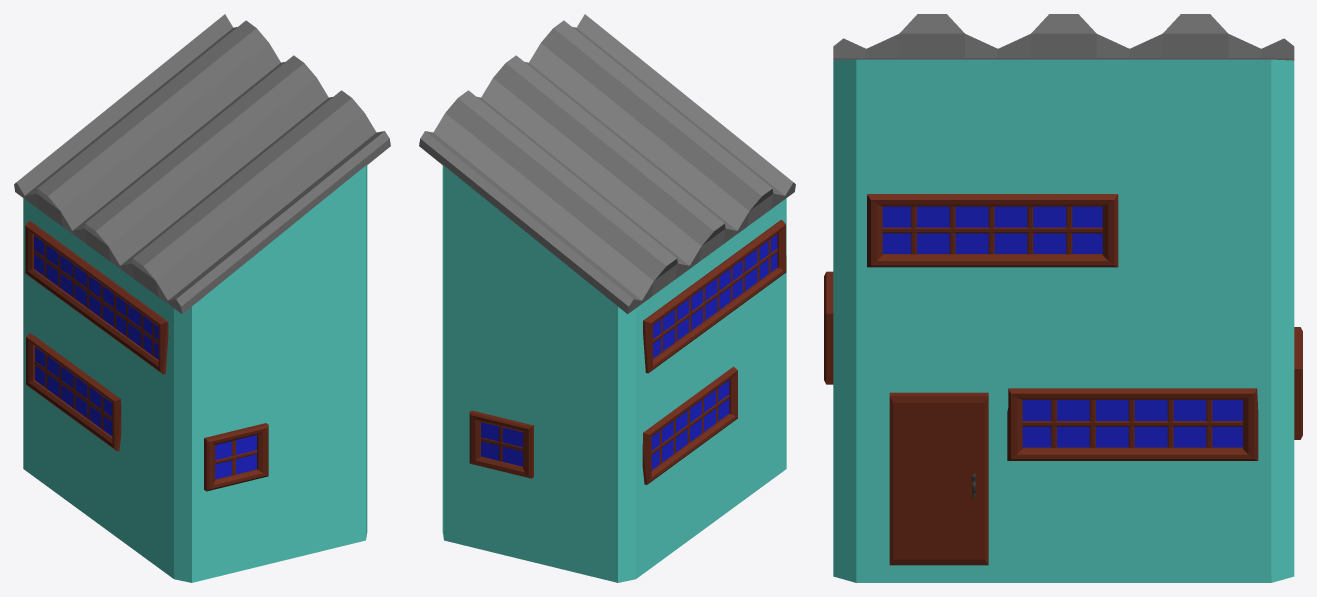
Rendered from House 3.fbx.
3 views of the same model, side by side, from view 1: azimuth 30°, elevation 25°; view 2: azimuth 150°, elevation 25°; view 3: azimuth 270°, elevation 25° (orthographic). The views are drawn at different scales.
Parts seen in each view (by area): view 1: Cube, Cube.004, Cube.005, Cube.006, Cube.007; view 2: Cube, Cube.004, Cube.005, Cube.006, Cube.010; view 3: Cube, Cube.003, Cube.002, Cube.001, Cube.004, Cube.007, Cube.010.
Part boxes in pixels (<box>): Cube: <box>23,165,367,582</box>; Cube.004: <box>14,14,390,314</box>; Cube.005: <box>25,221,168,374</box>; Cube.006: <box>26,333,121,451</box>; Cube.007: <box>204,423,268,491</box>; Cube: <box>442,165,786,582</box>; Cube.004: <box>419,14,795,314</box>; Cube.005: <box>643,220,786,373</box>; Cube.006: <box>642,366,737,484</box>; Cube.010: <box>469,410,533,478</box>; Cube: <box>833,59,1294,582</box>; Cube.003: <box>867,194,1118,267</box>; Cube.002: <box>1007,388,1258,460</box>; Cube.001: <box>889,392,988,565</box>; Cube.004: <box>833,14,1294,60</box>; Cube.007: <box>824,271,833,384</box>; Cube.010: <box>1294,327,1302,439</box>.
Bounding box in the file's own units: 573 × 1050 × 795.
